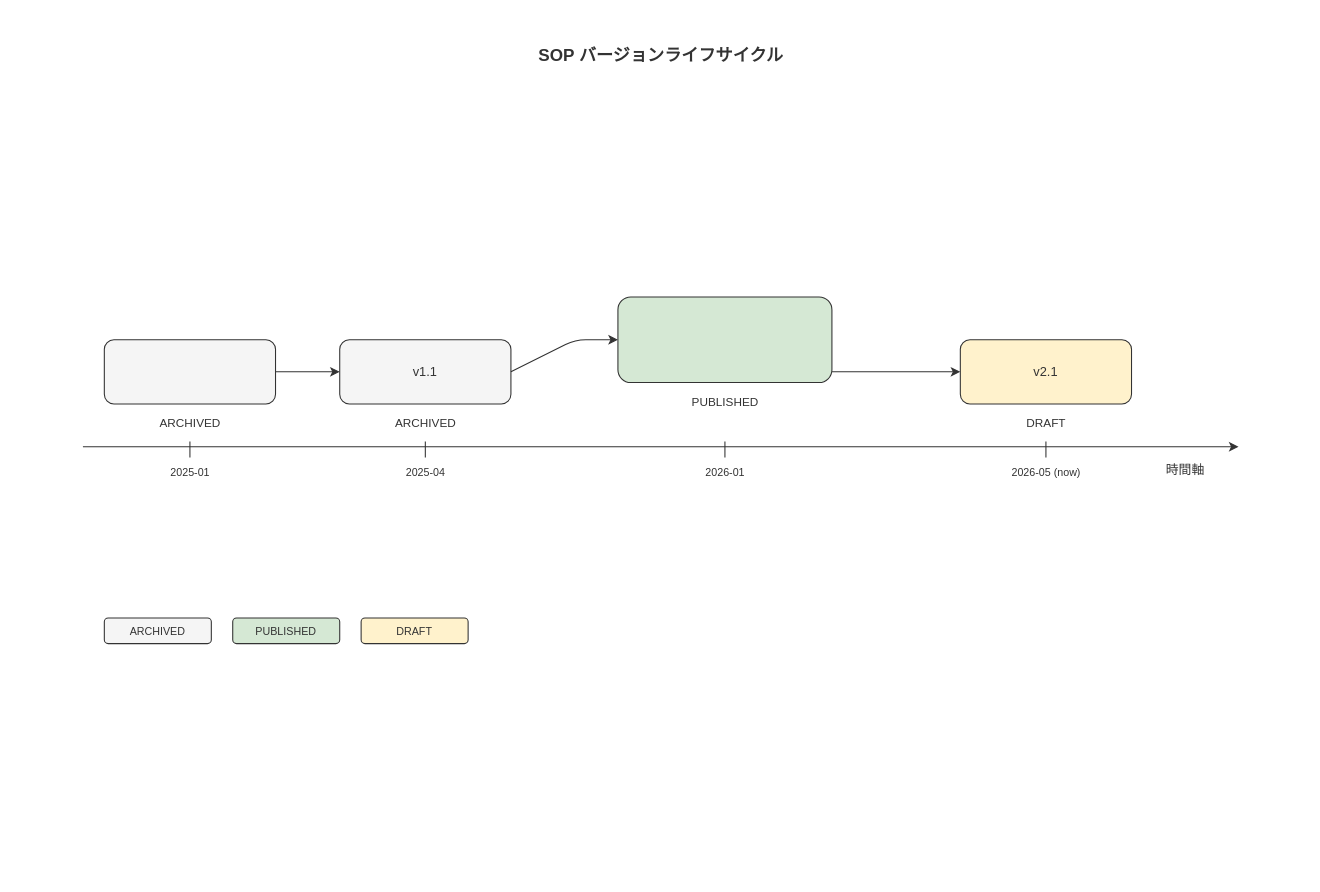
This 1320x892 diagram has some shape labels left out. Here are the shapes that lost their labels. From the top down, the centre of each, then its label:
At [724,339]: "v2.0 (current)".
At [189,371]: "v1.0".
